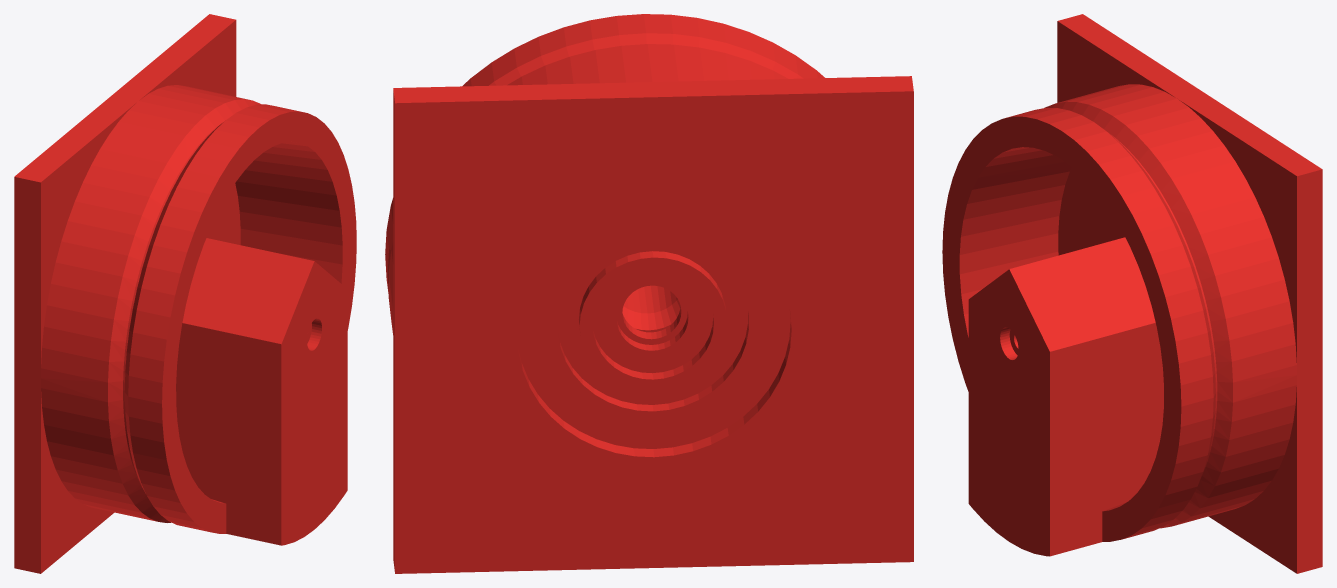
Rendered from panel_rotary_control_switch_1.glb.
3 renders of one model, left to right at view 1: azimuth 30°, elevation 25°; view 2: azimuth 150°, elevation 25°; view 3: azimuth 270°, elevation 25°, orthographic. The views are drawn at different scales.
Parts seen in each view (by area): view 1: rotary_control_switch_1_moving; view 2: rotary_control_switch_1_moving; view 3: rotary_control_switch_1_moving.
Part boxes in pixels (left/top/right/bottom): rotary_control_switch_1_moving: left=14, top=14, right=356, bottom=573; rotary_control_switch_1_moving: left=385, top=14, right=913, bottom=573; rotary_control_switch_1_moving: left=942, top=14, right=1322, bottom=573.
Size of the model in its own units: 0.068 by 0.065 by 0.0563.
